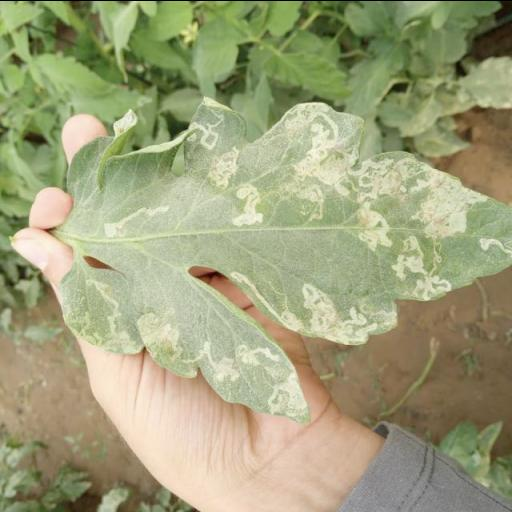disease_tomato: (60, 99, 512, 424)
